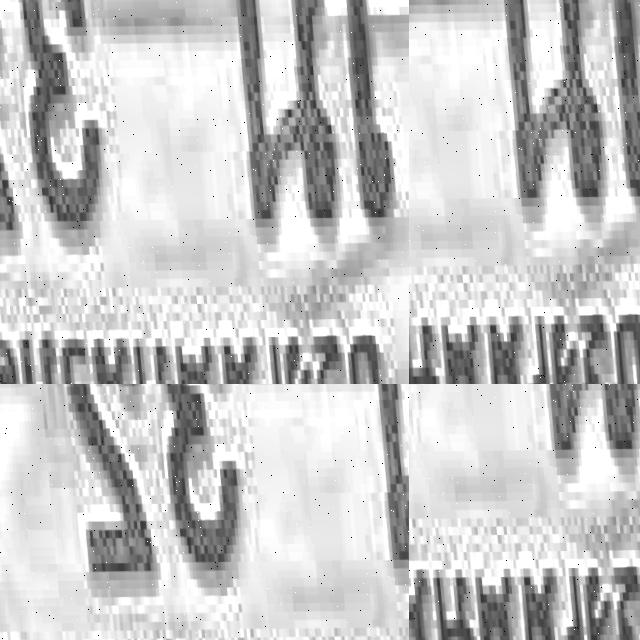license-plate: (48, 384, 409, 640), (180, 0, 409, 384), (409, 384, 640, 640)
